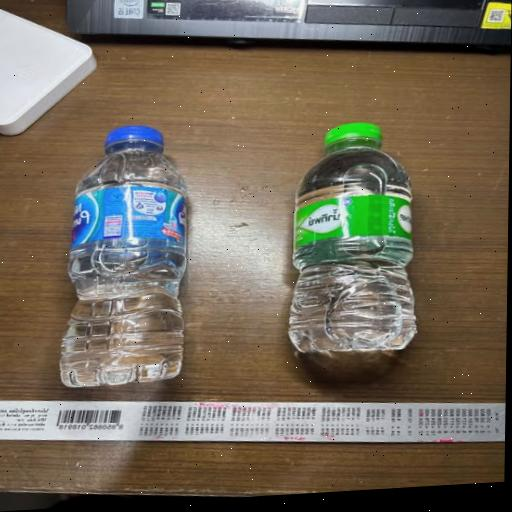bottle: (27, 100, 219, 409), (255, 98, 444, 389)
